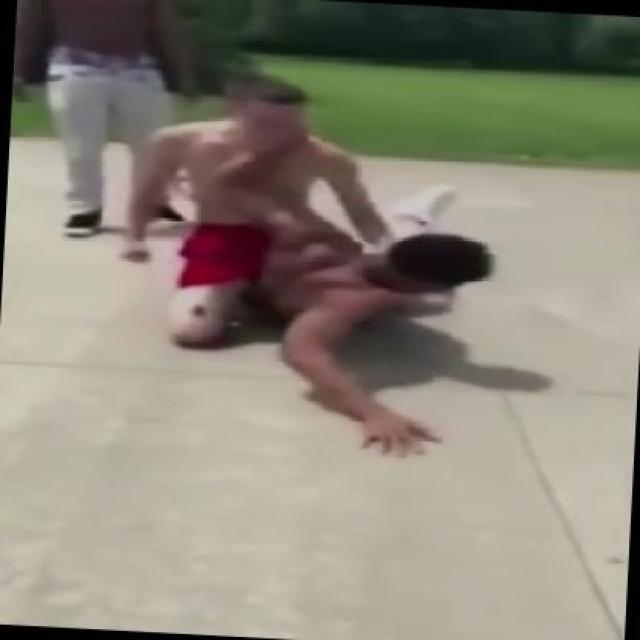fight: (108, 43, 570, 474)
non-fight: (0, 0, 214, 254)
